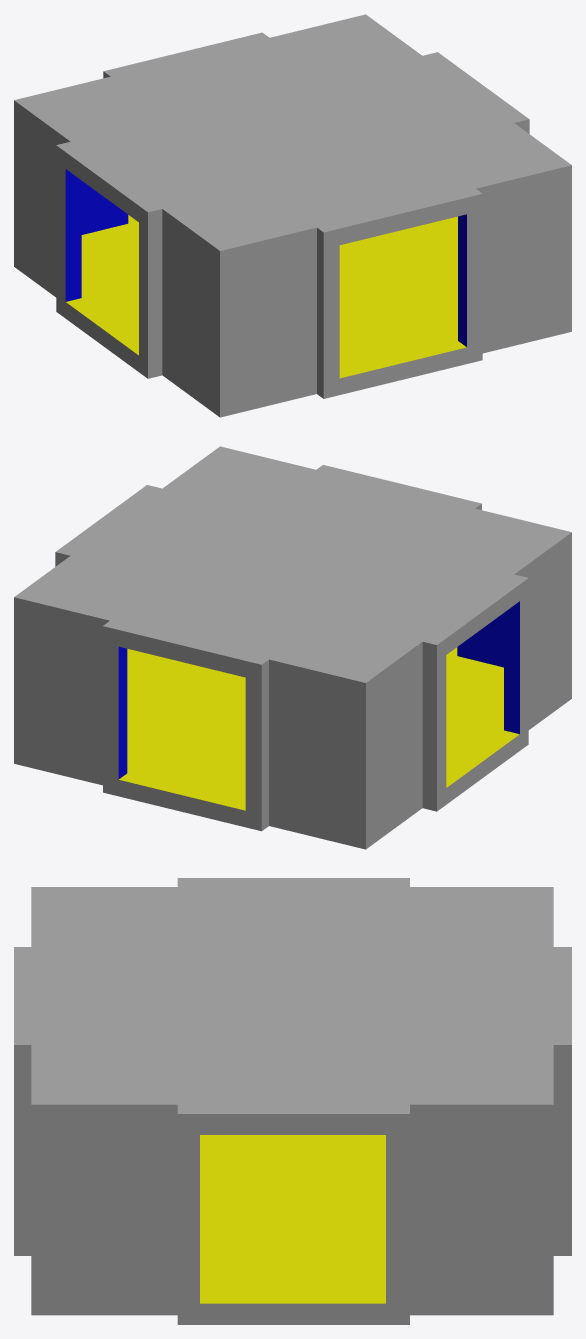
Rendered from Big area.fbx.
The picture shows the model from 3 angles, top to bottom: view 1: azimuth 30°, elevation 25°; view 2: azimuth 150°, elevation 25°; view 3: azimuth 270°, elevation 25°; orthographic projection. The views are drawn at different scales.
Visible parts, largest first — view 1: big_area_Fix1; view 2: big_area_Fix1; view 3: big_area_Fix1.
Part boxes in pixels (<box>): big_area_Fix1: <box>14,14,571,417</box>; big_area_Fix1: <box>14,446,571,849</box>; big_area_Fix1: <box>14,878,571,1324</box>.
Bounding box in the file's own units: 0.12 × 0.05 × 0.12.
